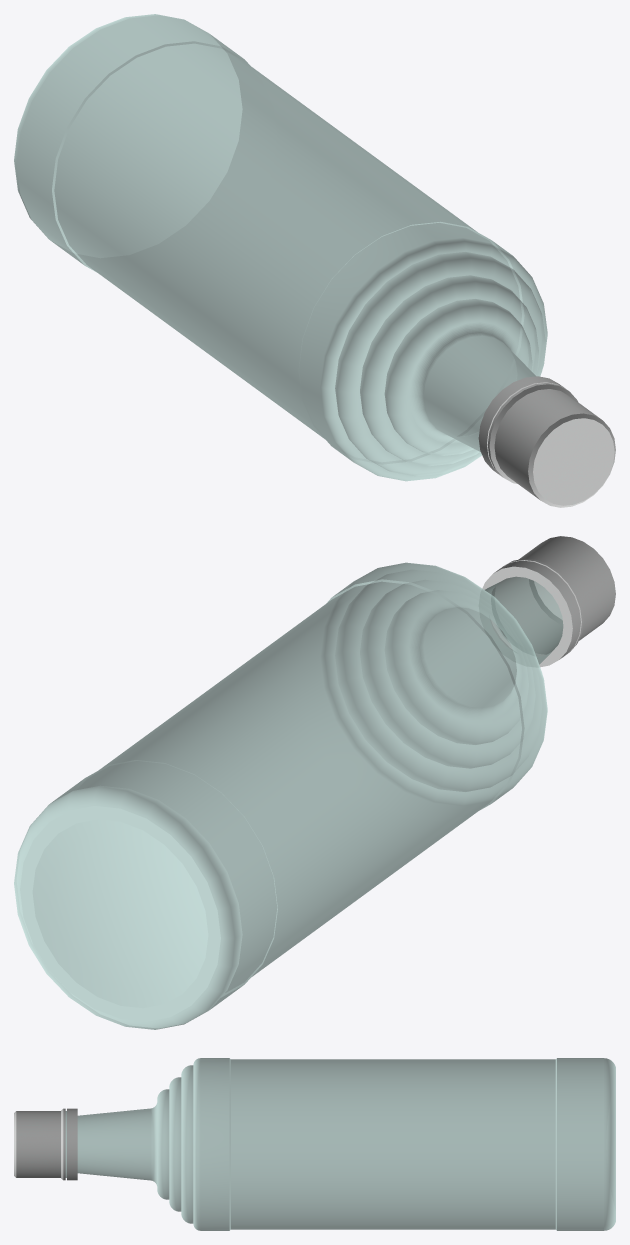
Rendered from model_scale.obj.
The picture shows the model from 3 angles, top to bottom: view 1: azimuth 30°, elevation 25°; view 2: azimuth 150°, elevation 25°; view 3: azimuth 270°, elevation 25°; orthographic projection. The views are drawn at different scales.
Visible parts, largest first — view 1: mesh1_mesh1-geometry; view 2: mesh1_mesh1-geometry; view 3: mesh1_mesh1-geometry.
Boxes of the visible parts, x1,y1,x2,y2 form: mesh1_mesh1-geometry: (14,14,615,507); mesh1_mesh1-geometry: (14,536,615,1029); mesh1_mesh1-geometry: (14,1058,615,1230).
Size of the model in its own units: 0.0467 by 0.0467 by 0.1622.
